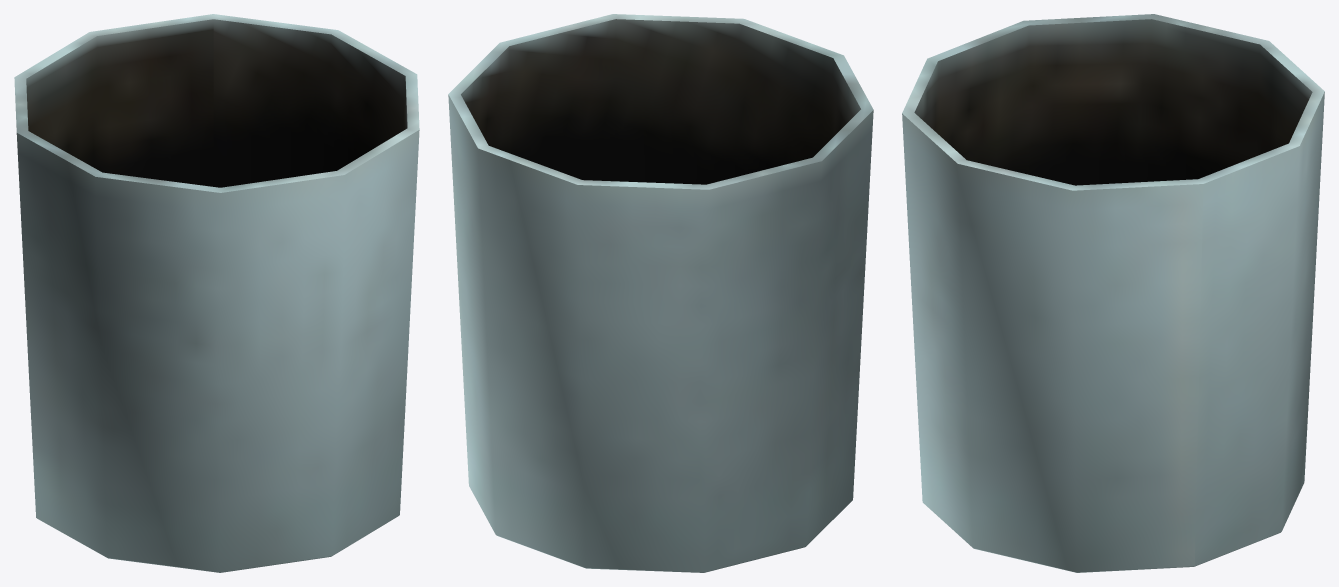
Rendered from WhiskeyGlass.FBX.
3 views of the same model, side by side, from view 1: azimuth 30°, elevation 25°; view 2: azimuth 150°, elevation 25°; view 3: azimuth 270°, elevation 25° (orthographic).
Parts seen in each view (by area): view 1: WhiskeyGlass; view 2: WhiskeyGlass; view 3: WhiskeyGlass.
Part boxes in pixels (<box>): WhiskeyGlass: <box>14,14,419,572</box>; WhiskeyGlass: <box>448,14,873,572</box>; WhiskeyGlass: <box>902,14,1324,572</box>.
Bounding box in the file's own units: 8.23 × 8.5 × 8.32.
